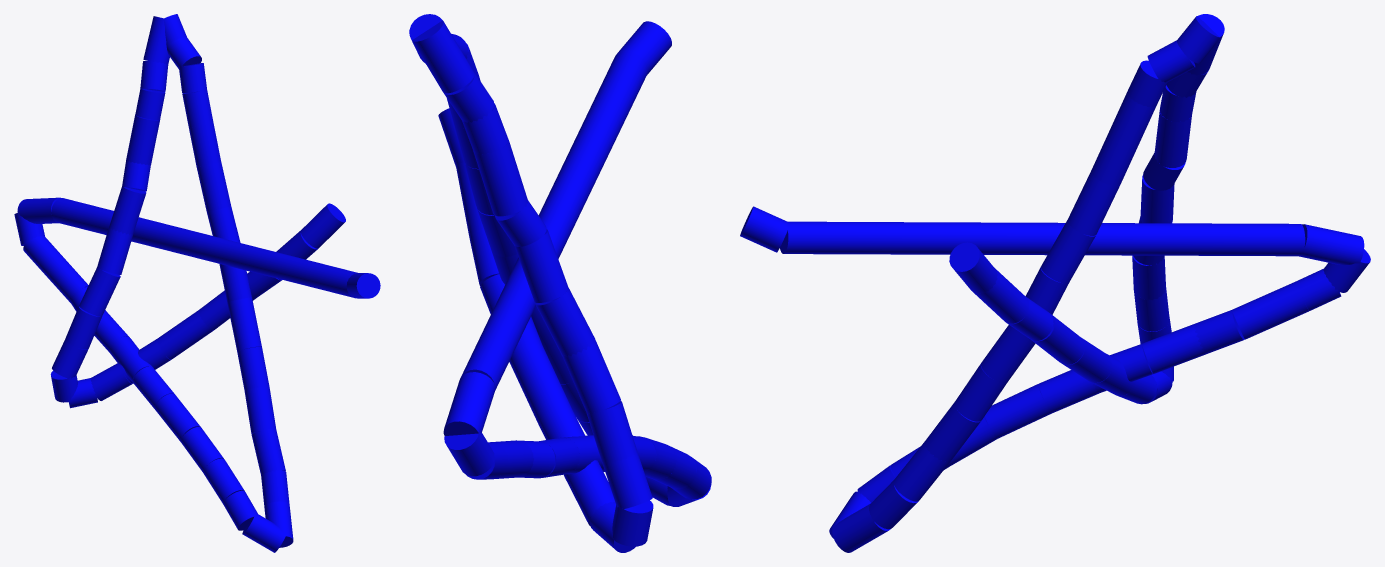
3 views of the same model, side by side, from view 1: azimuth 30°, elevation 25°; view 2: azimuth 150°, elevation 25°; view 3: azimuth 270°, elevation 25° (orthographic). The views are drawn at different scales.
Visible parts, largest first — view 1: Cylinder(Clone) (×47); view 2: Cylinder(Clone) (×41); view 3: Cylinder(Clone) (×38).
Part boxes in pixels (x1=…): Cylinder(Clone) (×47): x1=14, y1=14, x2=380, y2=552; Cylinder(Clone) (×41): x1=409, y1=14, x2=711, y2=552; Cylinder(Clone) (×38): x1=740, y1=16, x2=1370, y2=552.
Size of the model in its own units: 0.0986 by 0.1854 by 0.1926.
